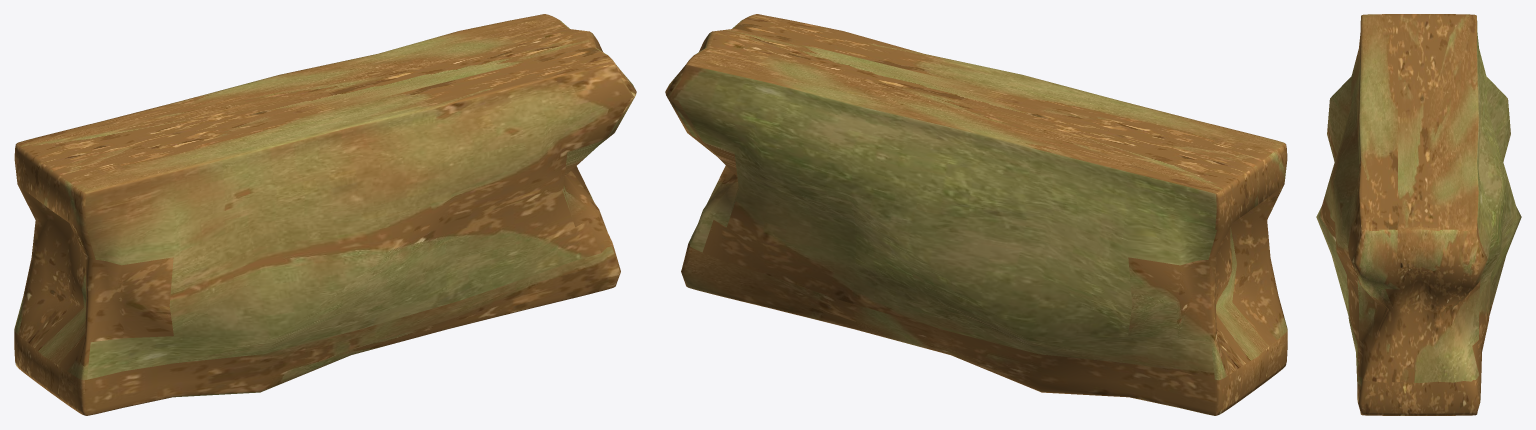
File: plataforma 1.fbx
3 views of the same model, side by side, from view 1: azimuth 30°, elevation 25°; view 2: azimuth 150°, elevation 25°; view 3: azimuth 270°, elevation 25° (orthographic). The views are drawn at different scales.
Visible parts, largest first — view 1: Plataforma; view 2: Plataforma; view 3: Plataforma.
Part boxes in pixels (bbox=[...]): Plataforma: bbox=[14, 14, 636, 415]; Plataforma: bbox=[665, 14, 1287, 415]; Plataforma: bbox=[1316, 14, 1521, 415].
Size of the model in its own units: 910 by 376 by 347.
